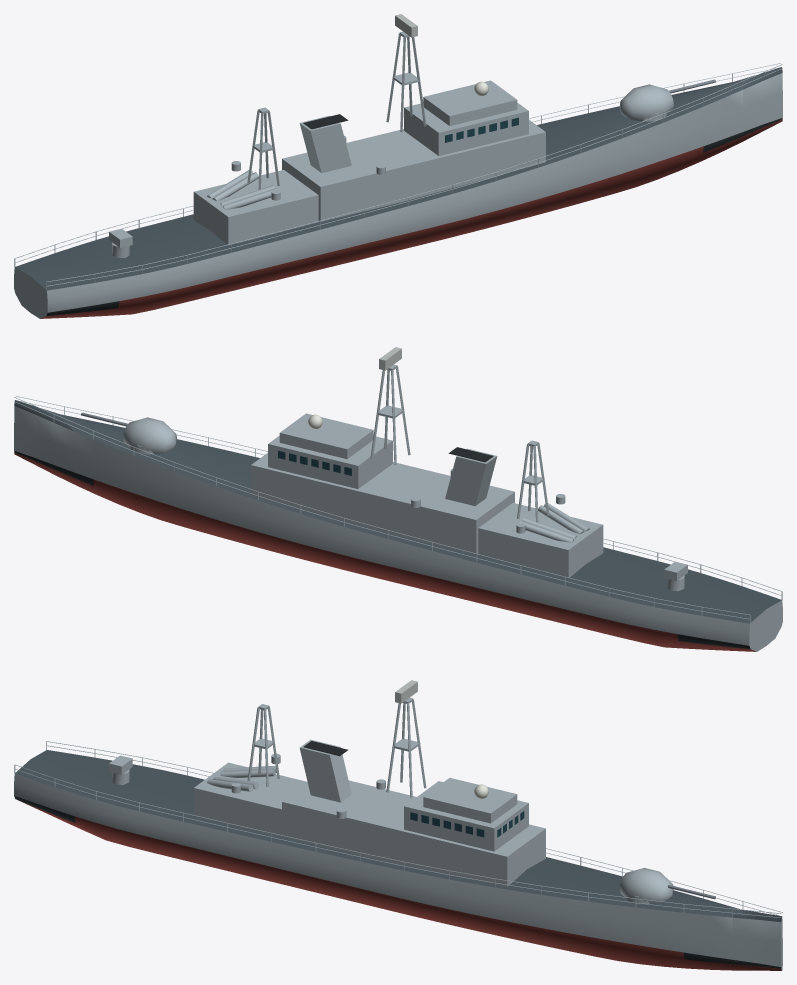
Rendered from irn_ffg_alvand.glb.
3 views of the same model, one above another, from view 1: azimuth 30°, elevation 25°; view 2: azimuth 150°, elevation 25°; view 3: azimuth 330°, elevation 25° (orthographic).
Visible parts, largest first — view 1: naval_paint, deck_non_skid, antifouling, boot_topping; view 2: naval_paint, deck_non_skid, antifouling, boot_topping; view 3: naval_paint, deck_non_skid, antifouling, boot_topping, glazing.
Part boxes in pixels (box(x1,y1,x2,y2)): naval_paint: box(14, 31, 782, 318); deck_non_skid: box(15, 67, 782, 290); antifouling: box(40, 119, 782, 318); boot_topping: box(46, 118, 782, 316); naval_paint: box(14, 364, 782, 651); deck_non_skid: box(14, 400, 781, 623); antifouling: box(14, 452, 756, 651); boot_topping: box(14, 451, 750, 649); naval_paint: box(14, 697, 782, 970); deck_non_skid: box(15, 750, 781, 921); antifouling: box(19, 800, 781, 970); boot_topping: box(14, 795, 781, 968); glazing: box(410, 811, 524, 837).
Size of the model in its own units: 10 by 2.75 by 1.17.
